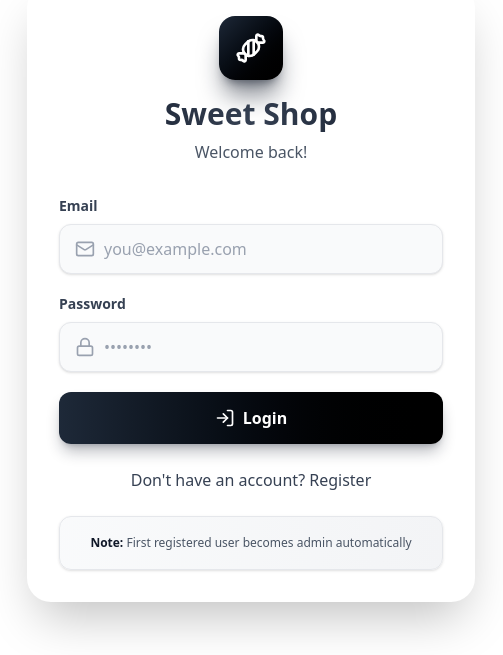
Test case: Login Component › should toggle between login and register modes
The image size is (503, 655).
Expected: the button "Login" is shown, [59,392,443,444]
// Click toggle button and wrap in act
Click the button "Don't have an account? Register".
click(251, 480)  # box [131,468,371,492]
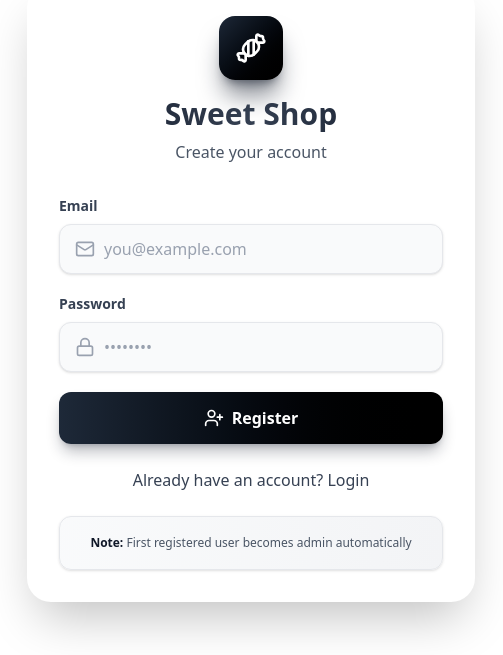
Now the button "Already have an account? Login" is shown, box [133,468,369,492]
